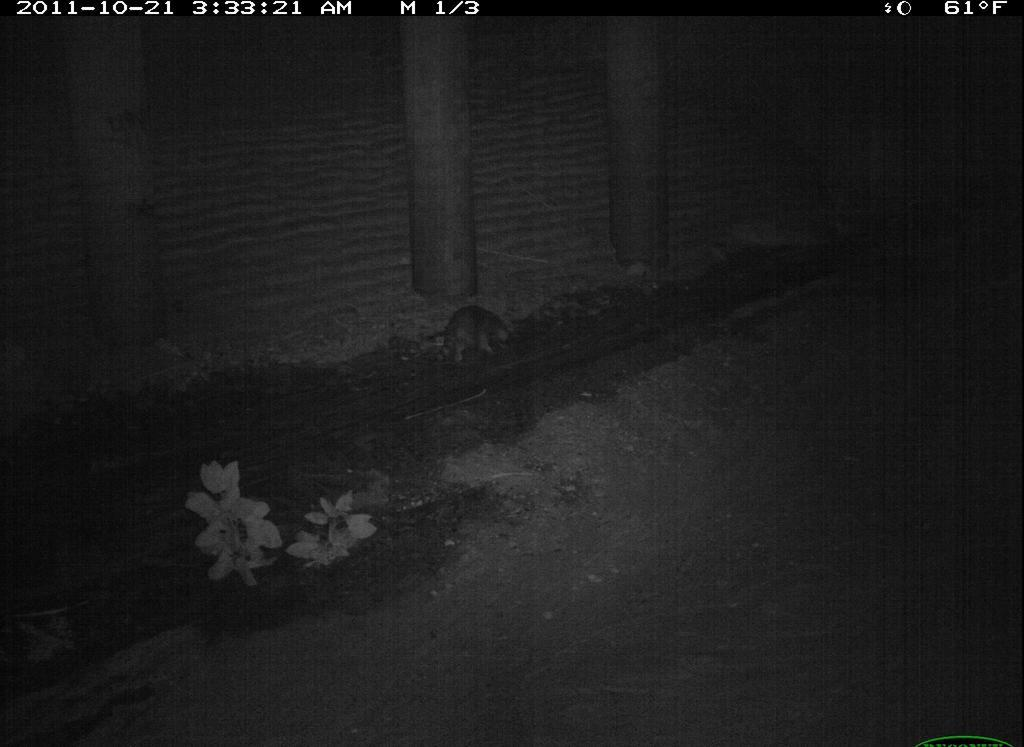raccoon: (859, 600, 1024, 738)
